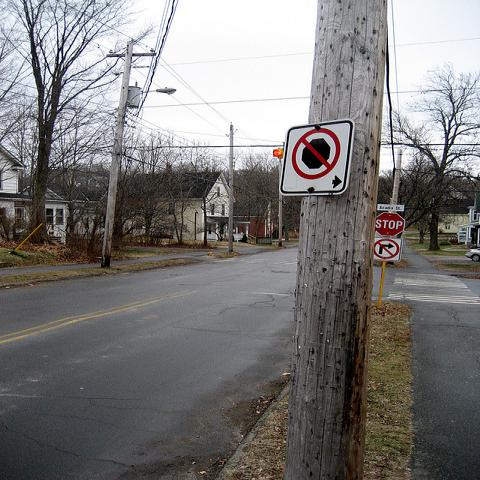car: (464, 248, 479, 261)
